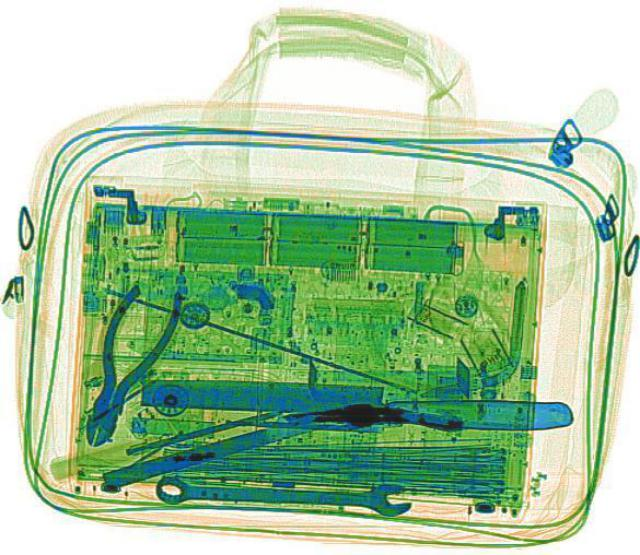Gun: (284, 387, 463, 452)
Knife: (137, 368, 573, 434)
Pliers: (56, 276, 186, 453)
Wrench: (152, 472, 410, 515)
